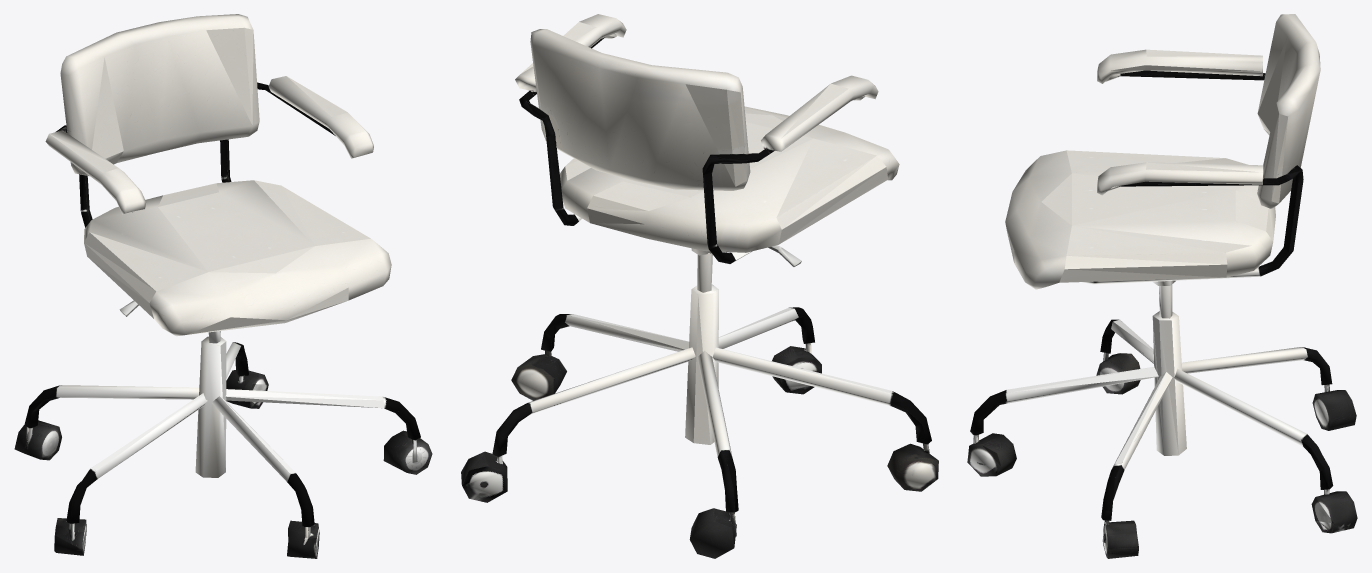
Rendered from Meshy_AI_Vintage_office_chair_0809072621_texture.fbx.
The picture shows the model from 3 angles, left to right: view 1: azimuth 30°, elevation 25°; view 2: azimuth 150°, elevation 25°; view 3: azimuth 270°, elevation 25°; orthographic projection. The views are drawn at different scales.
Parts seen in each view (by area): view 1: mesh_node; view 2: mesh_node; view 3: mesh_node.
Boxes of the visible parts, <box> form: mesh_node: <box>14,14,432,558</box>; mesh_node: <box>461,14,938,558</box>; mesh_node: <box>967,14,1357,558</box>.
Size of the model in its own units: 94.92 by 100 by 84.57.
1 material, 1 textured.
